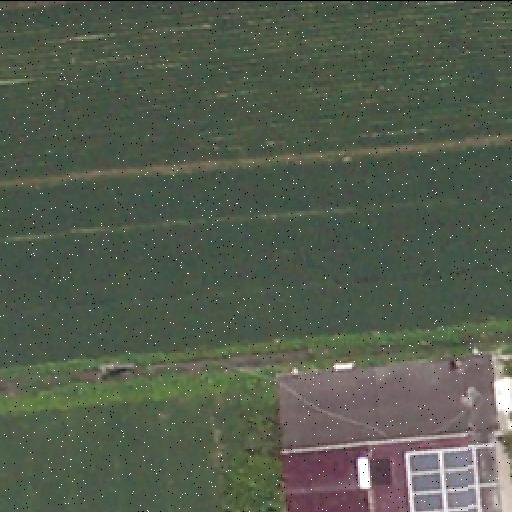solar-panel: (405, 444, 483, 512)
